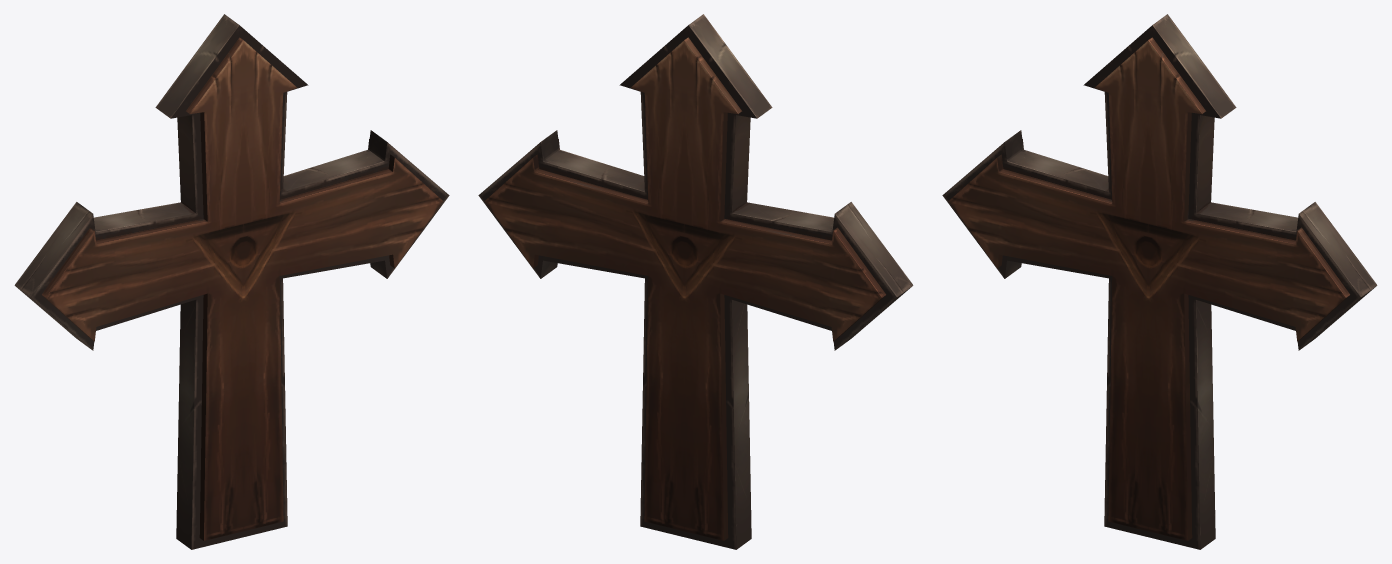
File: 34_cross.FBX
3 views of the same model, side by side, from view 1: azimuth 30°, elevation 25°; view 2: azimuth 150°, elevation 25°; view 3: azimuth 330°, elevation 25° (orthographic).
Parts seen in each view (by area): view 1: 34_cross; view 2: 34_cross; view 3: 34_cross.
Boxes of the visible parts, x1,y1,x2,y2 form: 34_cross: (14, 14, 449, 549); 34_cross: (478, 14, 913, 549); 34_cross: (942, 14, 1377, 549).
Size of the model in its own units: 43.74 by 51.24 by 4.62.
